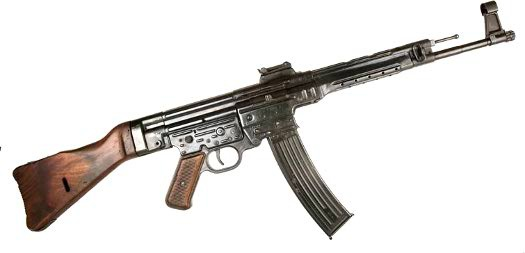ak47: (14, 2, 516, 239)
